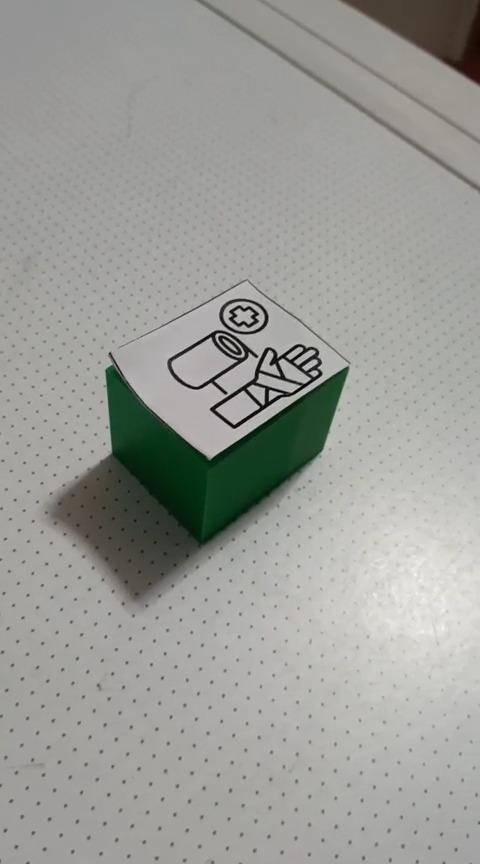Bandages: (104, 276, 350, 545)
